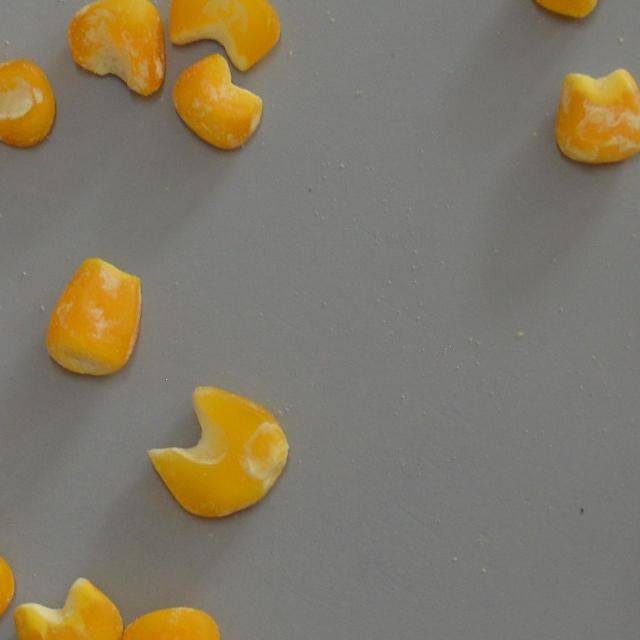no_canjicado: (166, 0, 282, 70), (12, 576, 122, 640), (120, 606, 222, 640), (527, 0, 632, 18), (0, 540, 14, 634)
pelicula: (154, 390, 284, 516), (43, 256, 142, 376), (67, 0, 166, 96), (171, 52, 262, 150), (554, 68, 640, 164), (0, 59, 56, 148)
